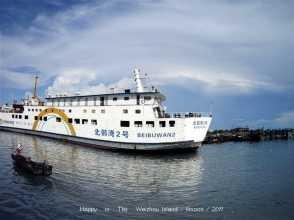otherboat: (2, 74, 213, 153)
